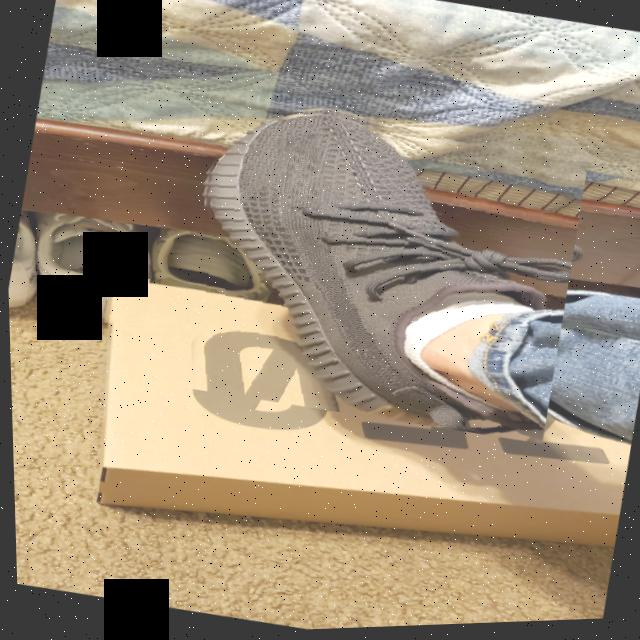shoe: (161, 82, 596, 458), (20, 207, 161, 337)
